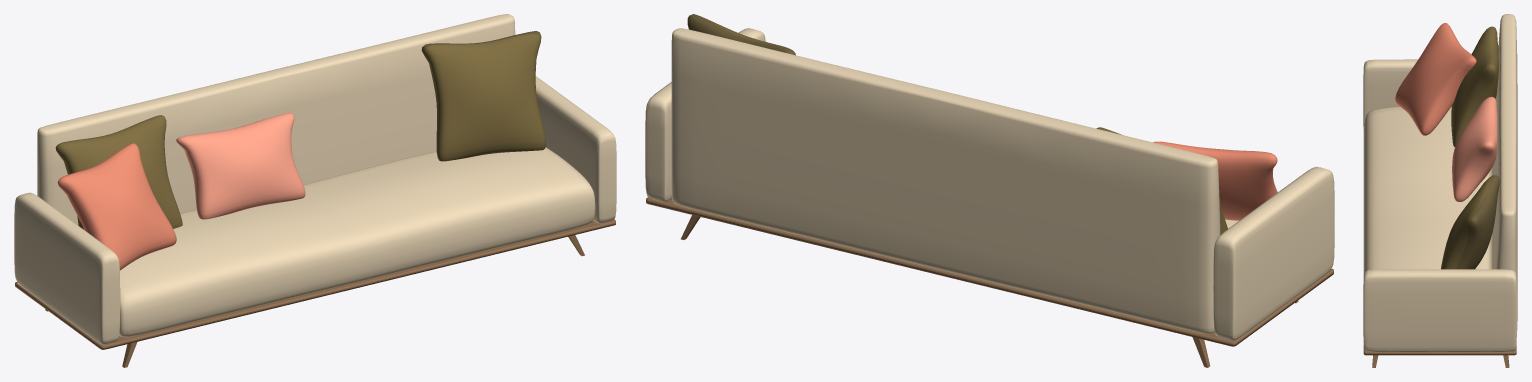
Rendered from LongSofaWithCushions.glb.
The picture shows the model from 3 angles, left to right: view 1: azimuth 30°, elevation 25°; view 2: azimuth 150°, elevation 25°; view 3: azimuth 270°, elevation 25°; orthographic projection. The views are drawn at different scales.
Parts seen in each view (by area): view 1: Long Sofa with Cushion; view 2: Long Sofa with Cushion; view 3: Long Sofa with Cushion.
Part boxes in pixels (bbox=[...]): Long Sofa with Cushion: bbox=[14, 14, 616, 367]; Long Sofa with Cushion: bbox=[645, 14, 1334, 367]; Long Sofa with Cushion: bbox=[1363, 14, 1517, 367].
Bounding box in the file's own units: 3.32 × 1.12 × 0.9963.
Materials: 1 (1 with a texture image).
